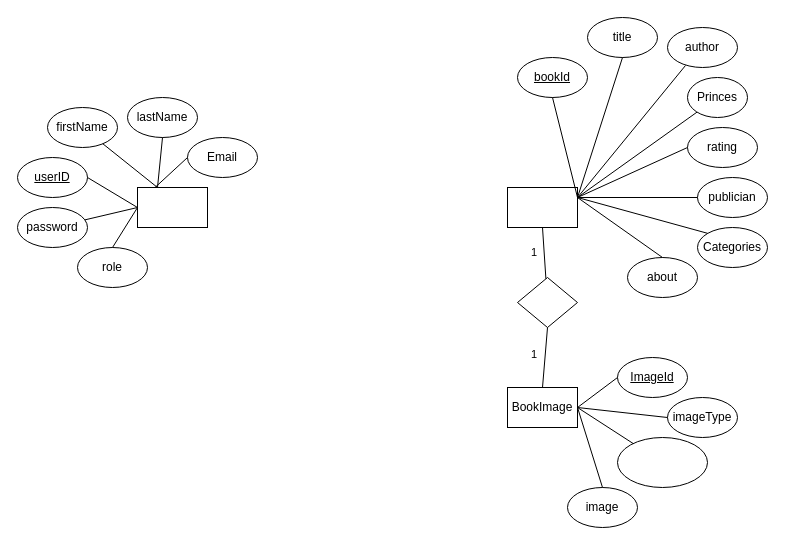
This 785x545 diagram has some shape labels left out. Each missing label, with the centre of its shape:
"Book" goes at point 542,207.
"imageFileName" goes at point 662,462.
"Mapping" goes at point 547,302.
"User" goes at point 172,207.
